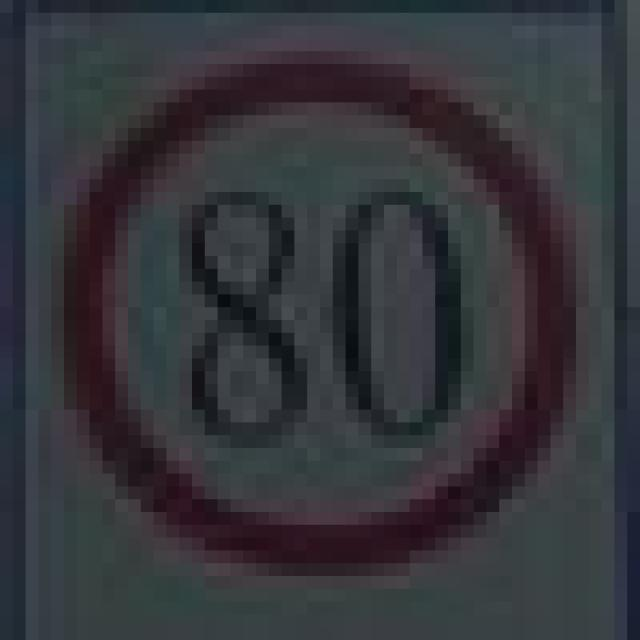speed_limit_50: (39, 39, 564, 564)
